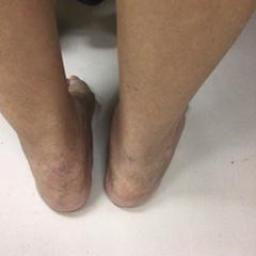Back View -Both Feet-: (8, 61, 212, 215)
